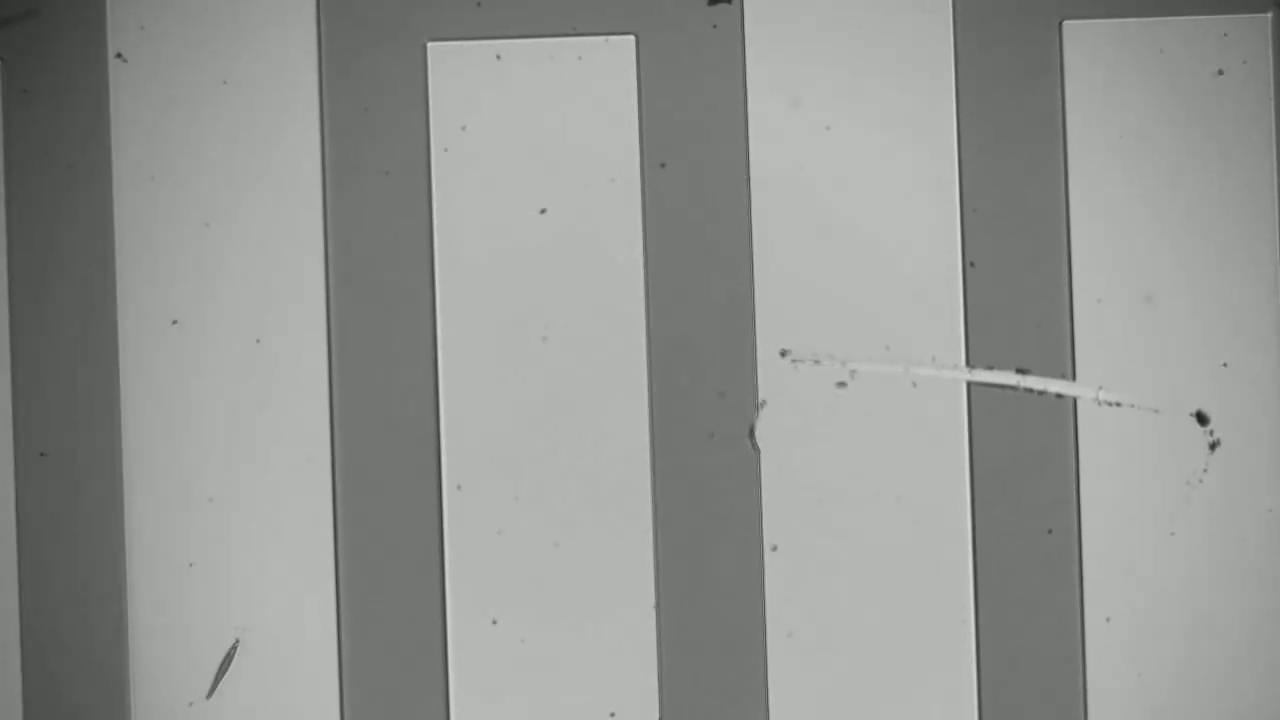Short_circuit: (951, 338, 1104, 420)
